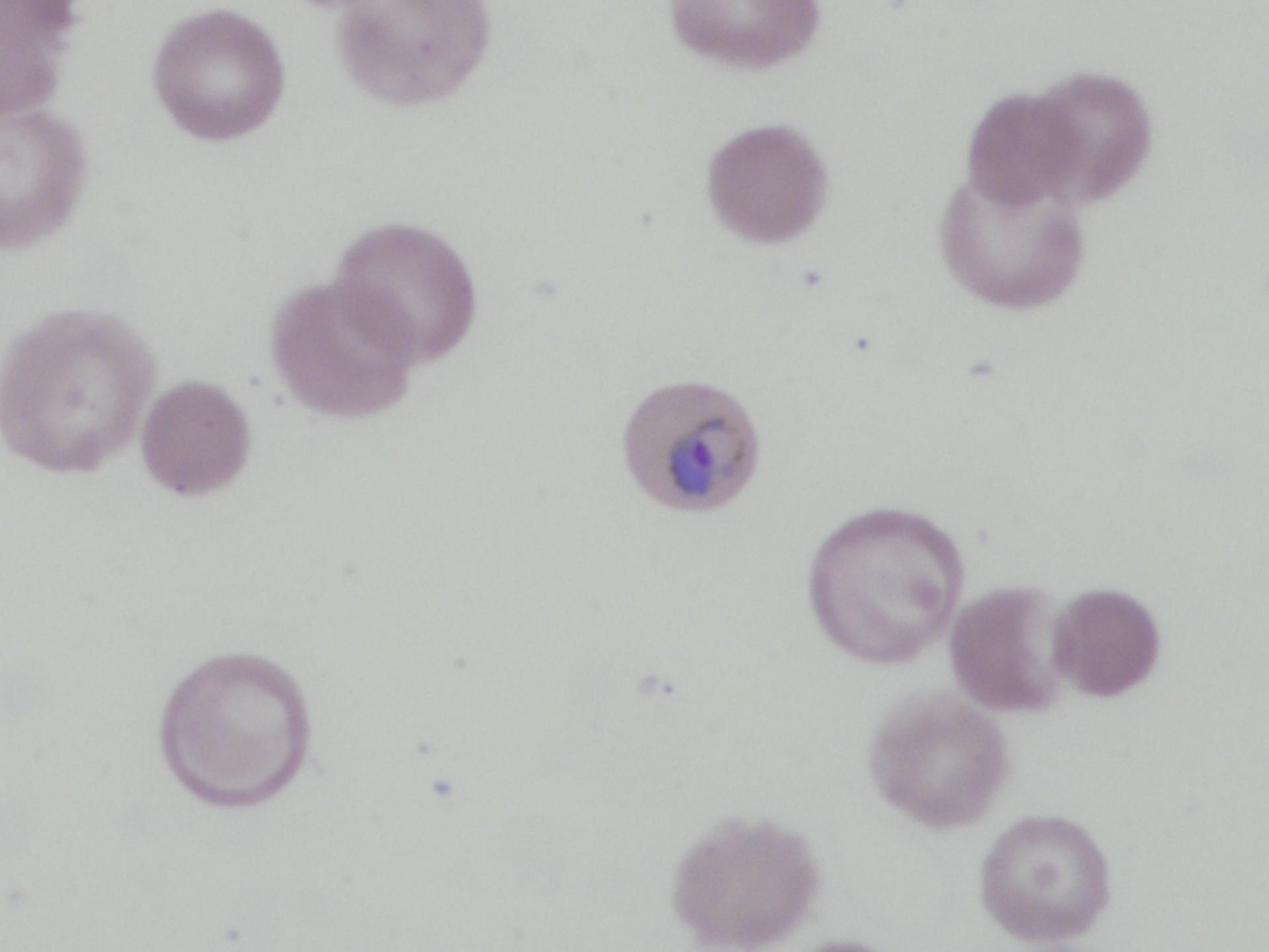Infected: (624, 382, 756, 509)
Uninfected: (2, 311, 153, 467), (159, 655, 307, 805), (810, 511, 961, 658), (870, 696, 1004, 826), (676, 821, 816, 945), (341, 223, 469, 357), (942, 186, 1080, 307), (275, 287, 403, 413), (155, 11, 284, 134), (979, 817, 1106, 939), (339, 2, 482, 101), (948, 590, 1059, 708), (709, 128, 824, 238), (1050, 75, 1151, 196), (971, 94, 1082, 204), (141, 384, 249, 492), (1057, 593, 1157, 696)
